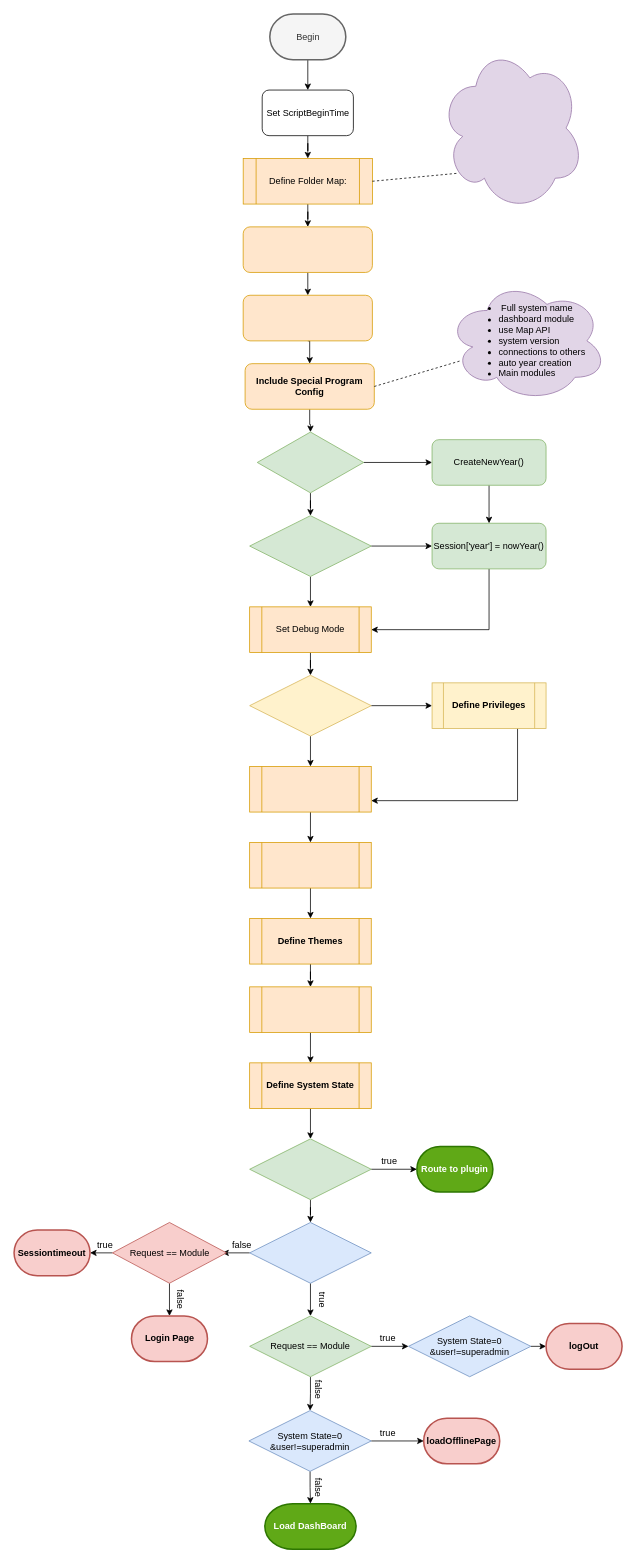
The diagram is 635 pixels wide and 1563 high, and some of its shapes have lost their labels. Each missing label, with the centre of its shape:
"AutoYearCreation &time>year" goes at (x=310, y=462).
"Backup check, create& clean" goes at (x=310, y=789).
"Define File Upload & check storage" goes at (x=310, y=1009).
"Docs_root assets fonts tmp modules scripts plugin config lang atttachs" goes at (x=511, y=128).
"include config: mysql_conx.php config.php" goes at (x=307, y=249).
"isset(Session['year'])" goes at (x=310, y=545).
"Loged ?" goes at (x=310, y=1252).
"Logged?" goes at (x=310, y=705).
"Main functions function.php common_function.php mysql_functions.php" goes at (x=307, y=317).
"Request == Plugin" goes at (x=310, y=1169).
"Set Language Direction & local" goes at (x=310, y=865).
